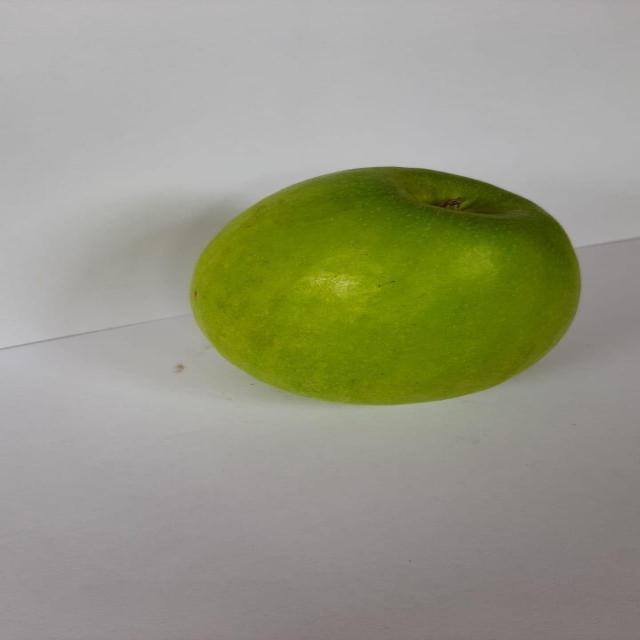Rotten Apple: (173, 154, 608, 419)
